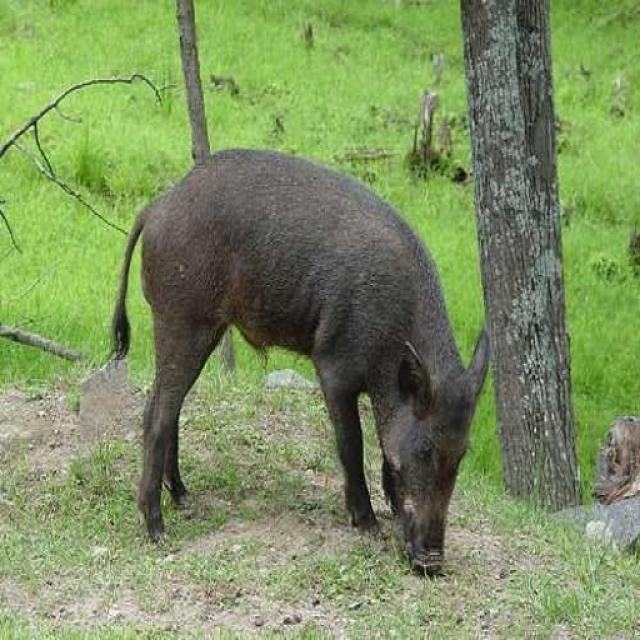pig: (76, 120, 471, 576)
